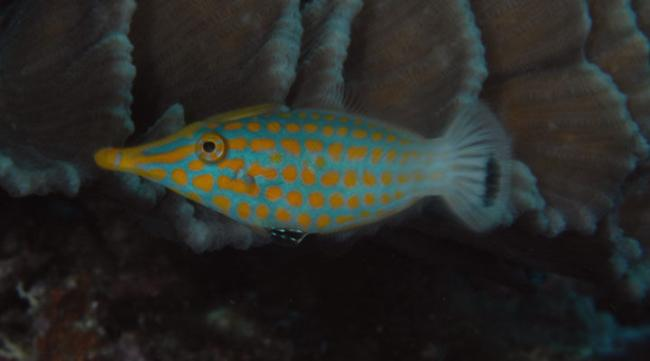fish: (95, 100, 514, 245)
